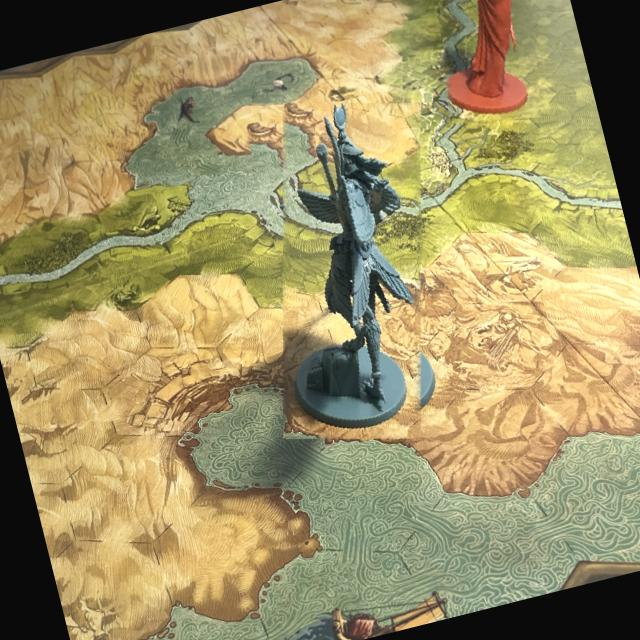amon: (416, 0, 560, 134)
isis: (224, 81, 479, 461)
